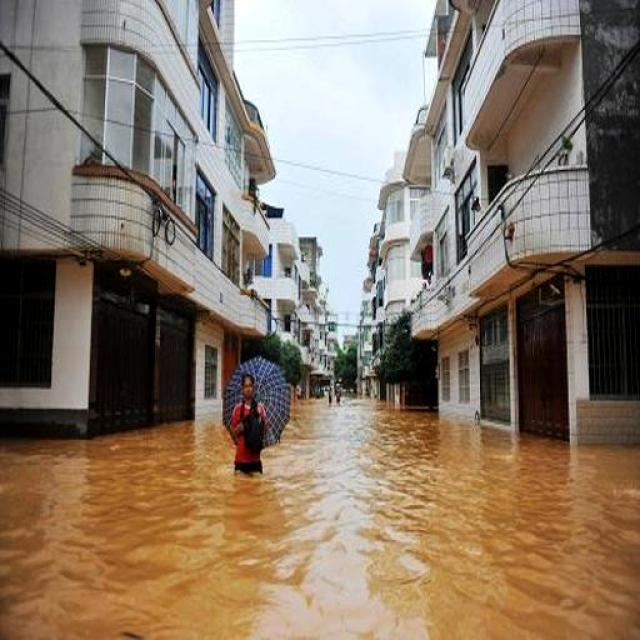civilian: (220, 354, 281, 503)
